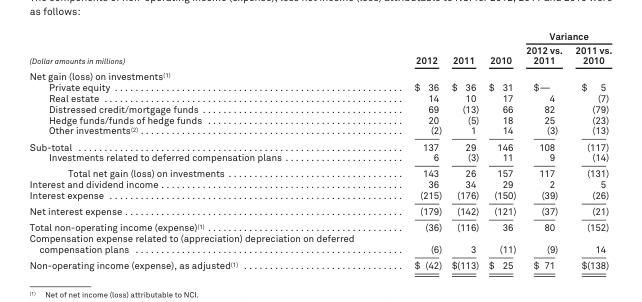table: (28, 29, 611, 271)
table column: (28, 29, 383, 271), (383, 29, 446, 271), (520, 29, 568, 271), (568, 29, 611, 271), (446, 29, 483, 271), (483, 29, 520, 271)
table column header: (28, 29, 611, 67)
table projected row header: (28, 67, 611, 81)
table row: (28, 42, 611, 67), (28, 232, 611, 257), (28, 203, 611, 219), (28, 67, 611, 81), (28, 124, 611, 138), (28, 151, 611, 165), (28, 189, 611, 203), (28, 257, 611, 271), (28, 29, 611, 42), (28, 138, 611, 151), (28, 165, 611, 178), (28, 219, 611, 232), (28, 81, 611, 92), (28, 92, 611, 103), (28, 103, 611, 114), (28, 178, 611, 189), (28, 114, 611, 124)
table spanning cell: (28, 29, 383, 67), (383, 29, 446, 67), (446, 29, 483, 67), (483, 29, 520, 67), (520, 29, 611, 42)
